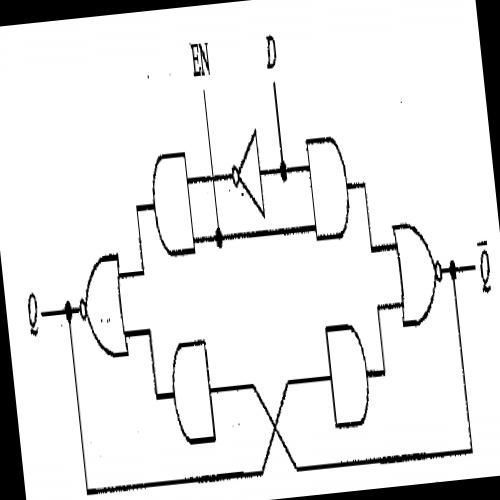and: (139, 134, 202, 276), (159, 320, 222, 458), (297, 122, 358, 250), (318, 312, 377, 438)
nor: (68, 238, 132, 372), (384, 208, 450, 335)
not: (220, 115, 270, 228)
